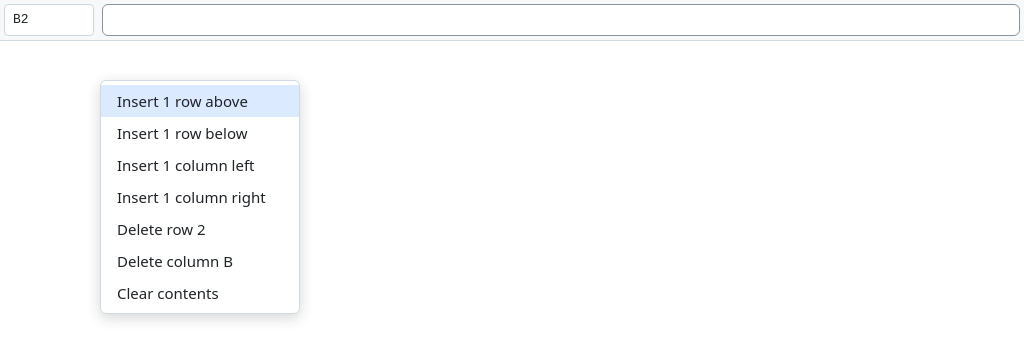
Scenario: context menu › closing › closes on an outside press but not on a press inside it
The width and height of the screenshot is (1024, 339).
Press the mouse on the menu item with test id "menu-clear": (200, 293) [101,277,299,309]
Check: the menu with test id "grid-context-menu" is shown, box [100,80,300,314]
Press the mouse on the element that starts with "Insert 1 row above": (512, 20) [0,0,1023,41]
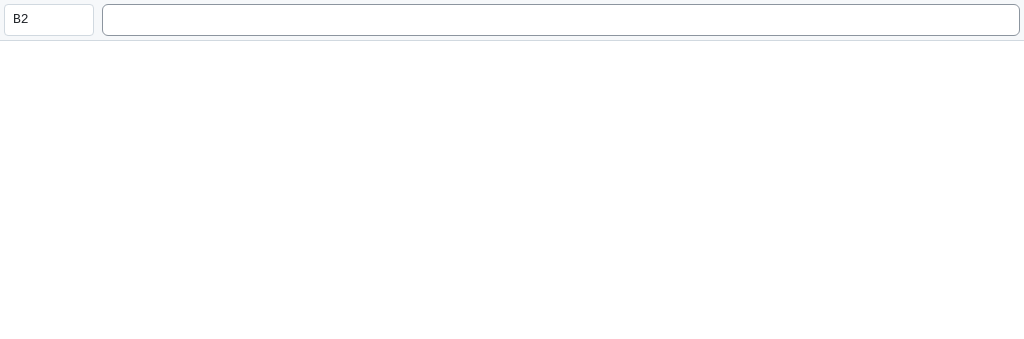
Check: the menu with test id "grid-context-menu" is gone
